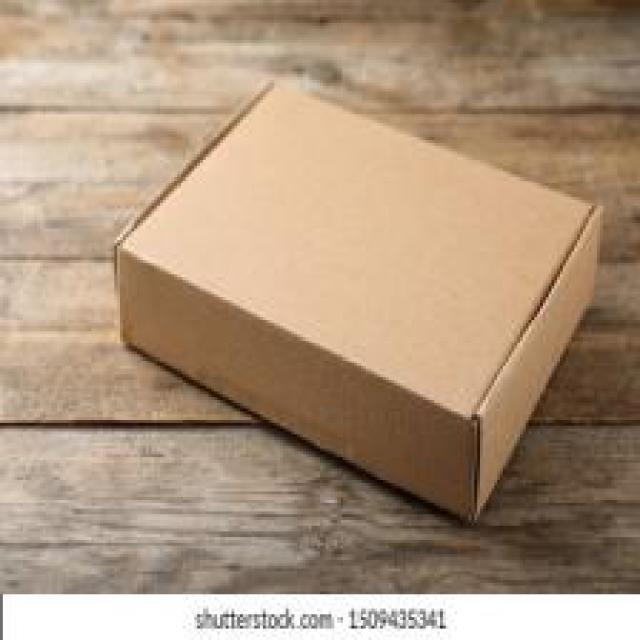box: (112, 77, 602, 527)
